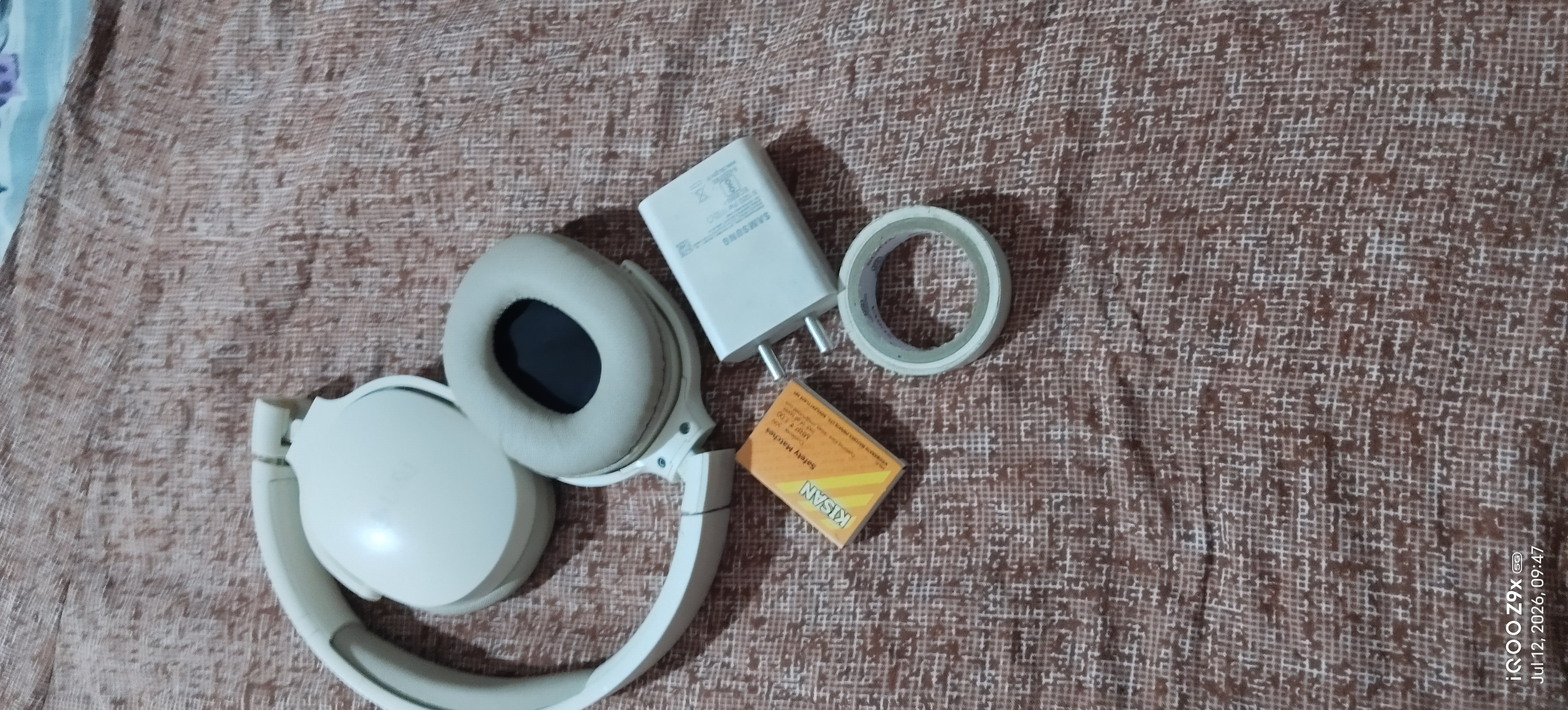charger: (628, 128, 853, 381)
matchbox: (711, 367, 936, 564)
tape_roll: (836, 194, 1018, 381)
